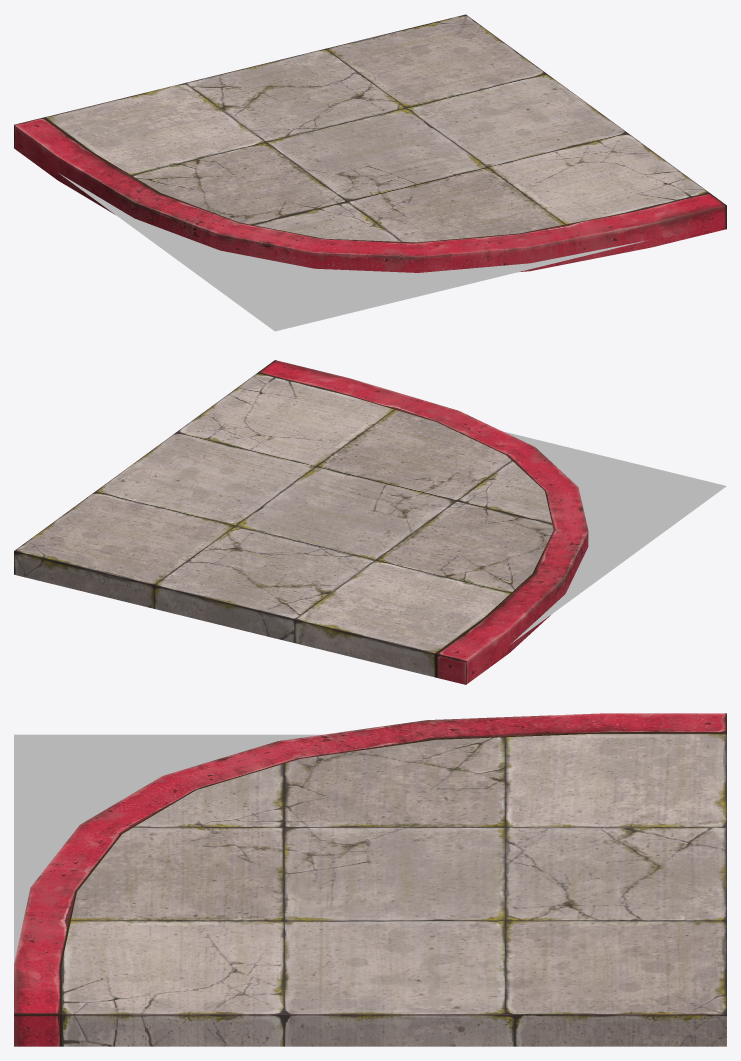
The model's file is sidewalk02_corner_A.fbx.
3 views of the same model, one above another, from view 1: azimuth 30°, elevation 25°; view 2: azimuth 150°, elevation 25°; view 3: azimuth 270°, elevation 25° (orthographic). The views are drawn at different scales.
Parts seen in each view (by area): view 1: sidewalk02_corner_A; view 2: sidewalk02_corner_A; view 3: sidewalk02_corner_A.
Part boxes in pixels (box(x1,y1,x2,y2)): sidewalk02_corner_A: box(14, 14, 726, 331); sidewalk02_corner_A: box(14, 360, 726, 684); sidewalk02_corner_A: box(14, 713, 726, 1046).
Bounding box in the file's own units: 300 × 15 × 300.
